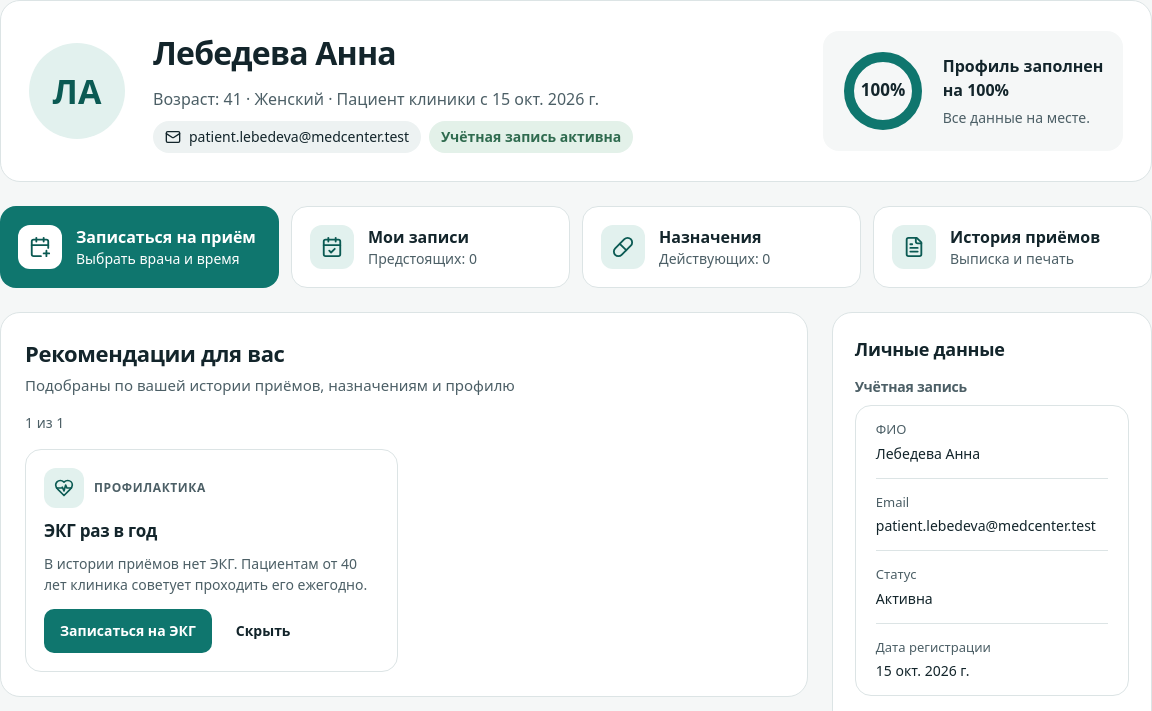
Test: ProfileView › recommendations › should hide a recommendation, remember it per patient and bring it back with "Показать скрытые"
Click the button with aria-label "Скрыть рекомендацию: ЭКГ раз в год": (263, 631) x1=220 y1=609 x2=306 y2=653
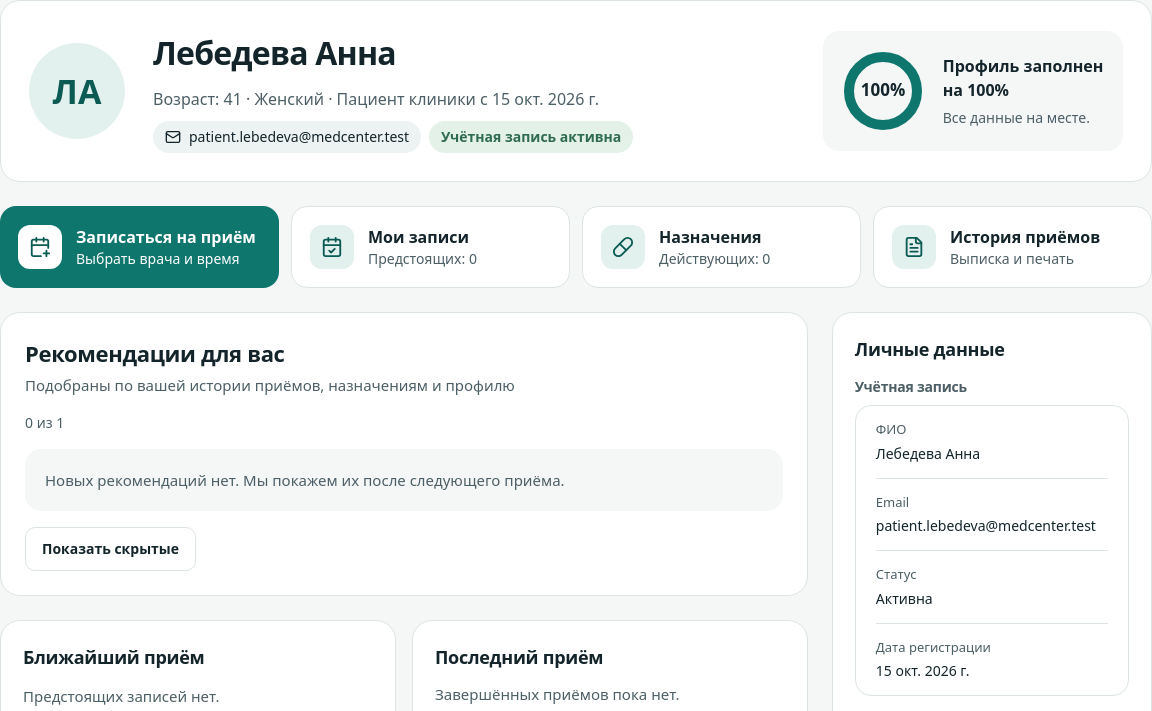
Check: the list item with test id "reco-ecg" is gone
Check: the element with test id "reco-empty" is shown, box x1=25 y1=448 x2=783 y2=511
Click the button "Показать скрытые": (110, 549) x1=25 y1=527 x2=196 y2=571
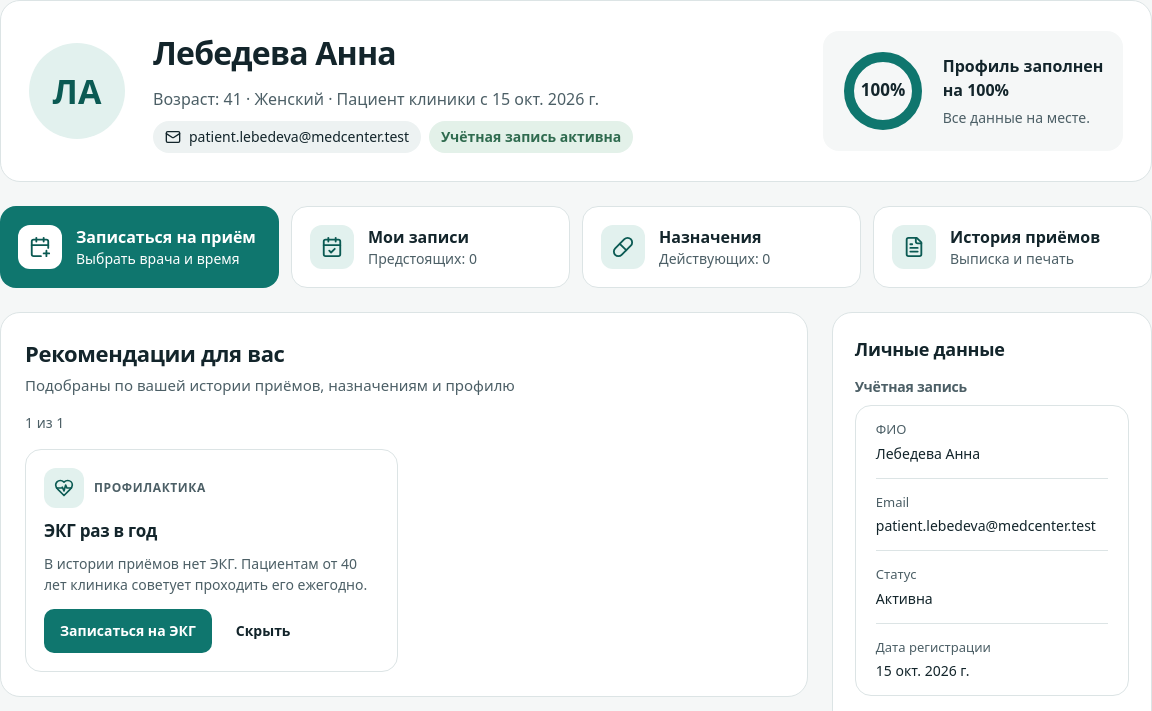
Check: the list item with test id "reco-ecg" is shown, box x1=25 y1=448 x2=398 y2=672
